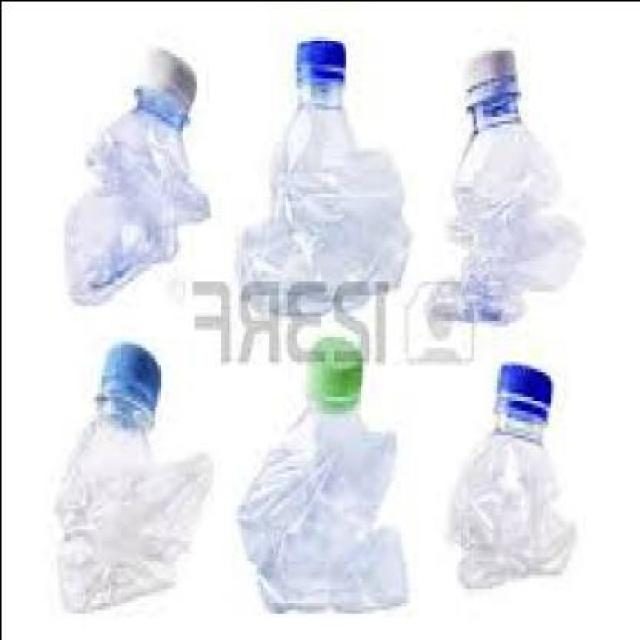PLASTIC: (235, 32, 412, 308), (240, 336, 408, 616), (58, 338, 214, 612), (430, 49, 584, 318), (66, 45, 214, 301), (447, 364, 570, 591), (94, 336, 160, 419), (134, 42, 198, 104), (462, 46, 524, 106), (495, 356, 554, 416), (309, 336, 363, 392), (298, 31, 350, 77)
